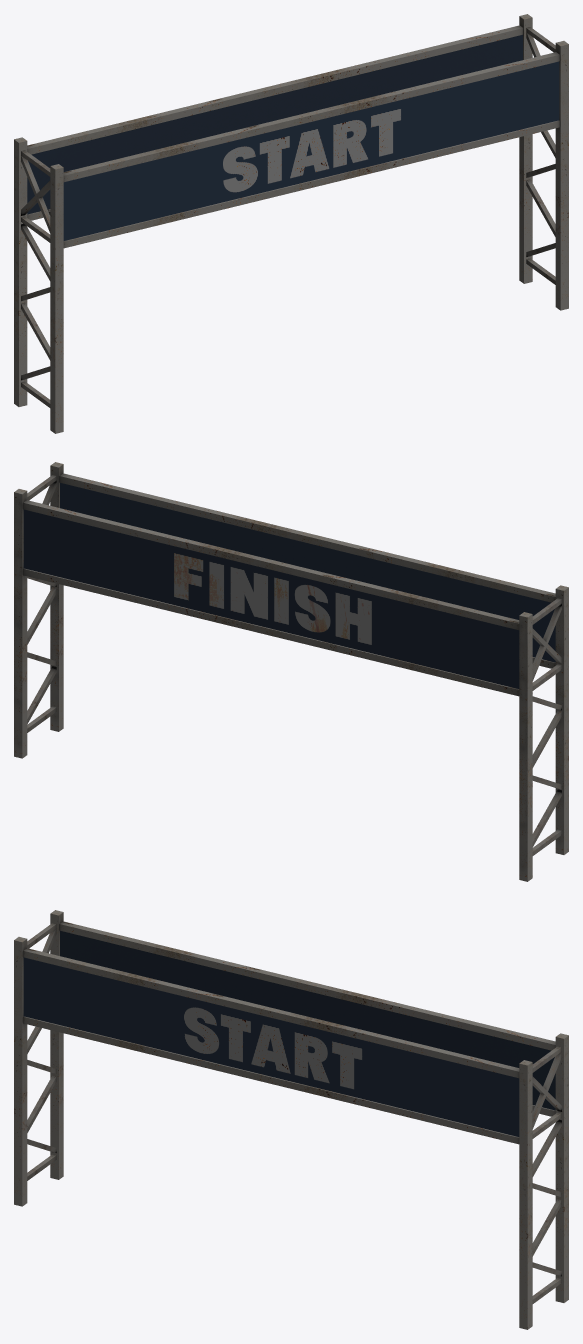
The model's file is Checkpointboard_07.fbx.
3 renders of one model, top to bottom at view 1: azimuth 30°, elevation 25°; view 2: azimuth 150°, elevation 25°; view 3: azimuth 330°, elevation 25°, orthographic.
Visible parts, largest first — view 1: Checkpointboard_07; view 2: Checkpointboard_07; view 3: Checkpointboard_07.
Boxes of the visible parts, box(x1,y1,x2,y2) form: Checkpointboard_07: box(14, 14, 568, 433); Checkpointboard_07: box(14, 462, 568, 881); Checkpointboard_07: box(14, 910, 568, 1329).
Bounding box in the file's own units: 1.85 × 0.9103 × 0.2579.
